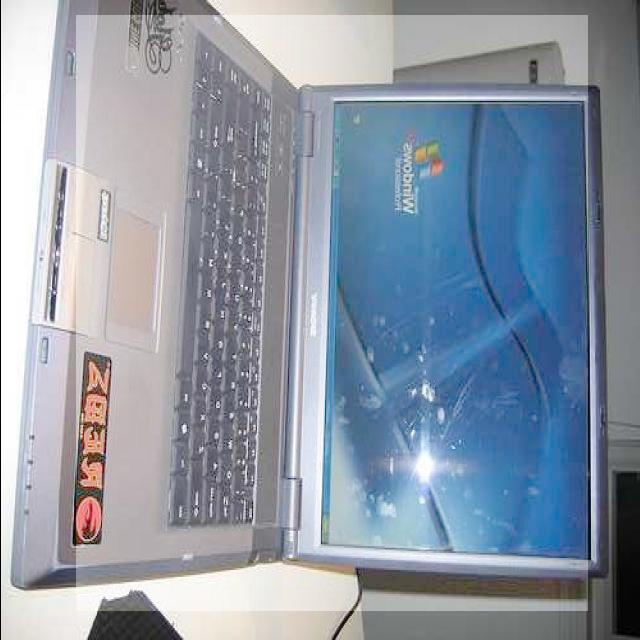-keyboard-: (76, 15, 588, 611)
